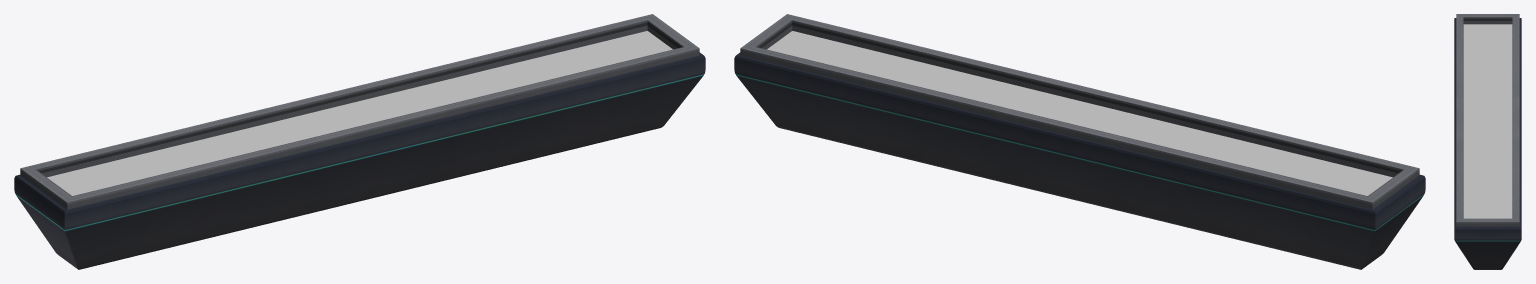
The model's file is mesh_1002_hualan01.FBX.
The picture shows the model from 3 angles, left to right: view 1: azimuth 30°, elevation 25°; view 2: azimuth 150°, elevation 25°; view 3: azimuth 270°, elevation 25°; orthographic projection. The views are drawn at different scales.
Parts seen in each view (by area): view 1: mesh_1002_hualan01a, mesh_1002_hualan01b; view 2: mesh_1002_hualan01a, mesh_1002_hualan01b; view 3: mesh_1002_hualan01b, mesh_1002_hualan01a.
Part boxes in pixels (bbox=[...]): mesh_1002_hualan01a: bbox=[14, 14, 705, 269]; mesh_1002_hualan01b: bbox=[47, 31, 672, 195]; mesh_1002_hualan01a: bbox=[734, 14, 1425, 269]; mesh_1002_hualan01b: bbox=[767, 31, 1392, 195]; mesh_1002_hualan01b: bbox=[1463, 24, 1512, 218]; mesh_1002_hualan01a: bbox=[1454, 14, 1521, 269].
Size of the model in its own units: 943 by 118 by 127.
